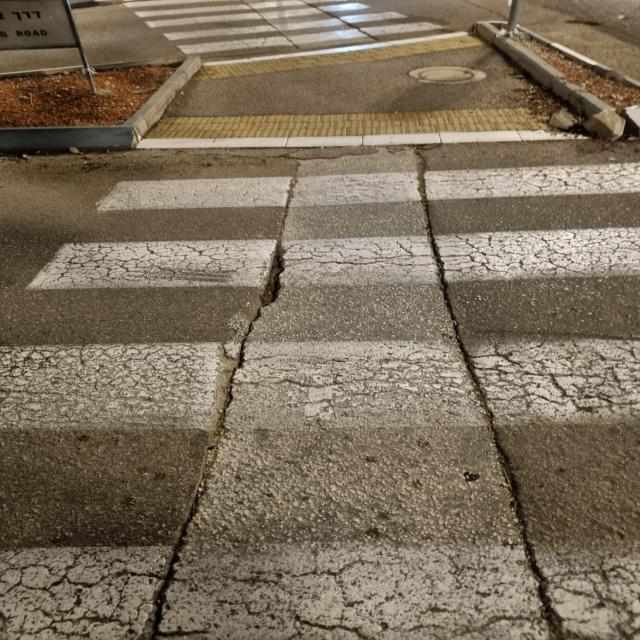medium_pothole: (257, 238, 286, 310)
minor_pothole: (212, 347, 238, 428)
